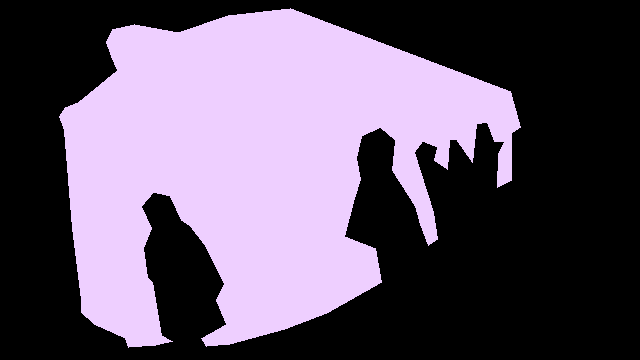Train: (59, 8, 521, 347)
